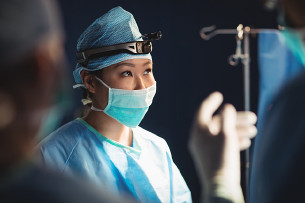face_mask: (101, 59, 155, 127)
